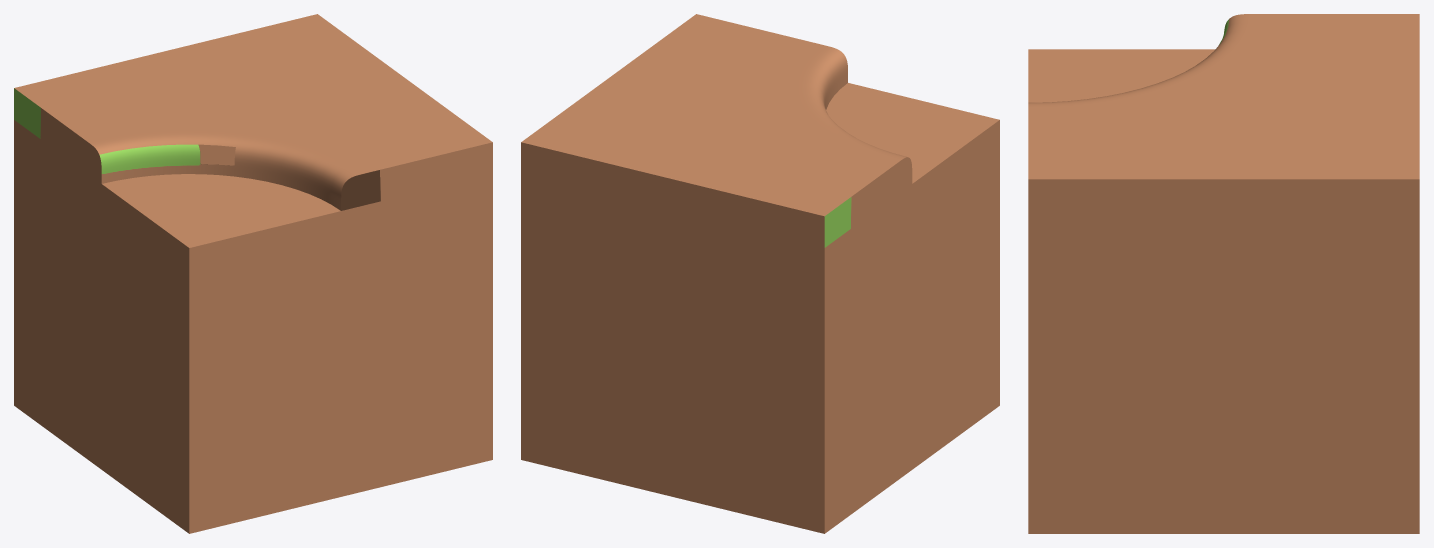
The model's file is Grass-Dirt-2.fbx.
3 renders of one model, left to right at view 1: azimuth 30°, elevation 25°; view 2: azimuth 150°, elevation 25°; view 3: azimuth 270°, elevation 25°, orthographic. The views are drawn at different scales.
Visible parts, largest first — view 1: Grass-Dirt-2; view 2: Grass-Dirt-2; view 3: Grass-Dirt-2.
Part boxes in pixels (box(x1,y1,x2,y2)): Grass-Dirt-2: box(14, 14, 492, 533); Grass-Dirt-2: box(521, 14, 999, 533); Grass-Dirt-2: box(1028, 14, 1419, 533).
Bounding box in the file's own units: 100 × 100 × 100.
